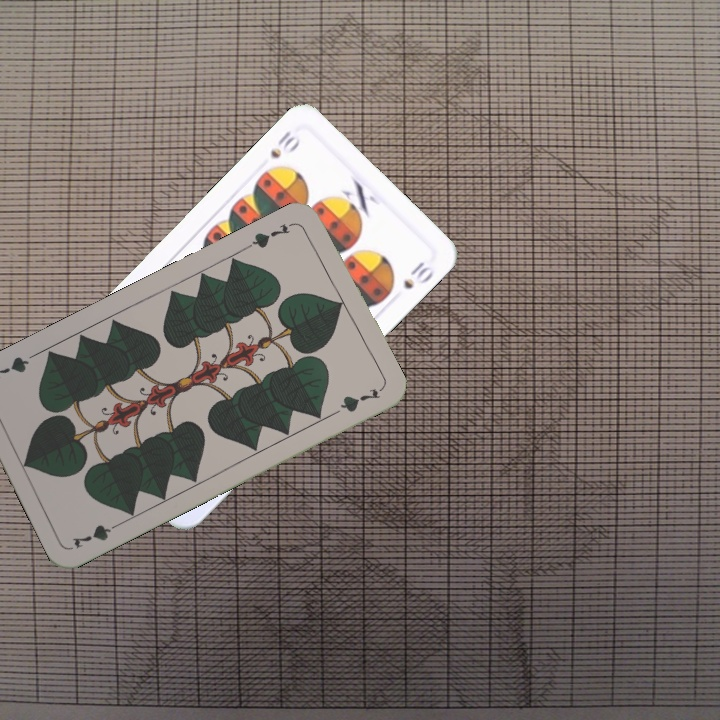G7: (68, 517, 125, 551), (243, 218, 298, 251)
S10: (266, 126, 303, 161)
